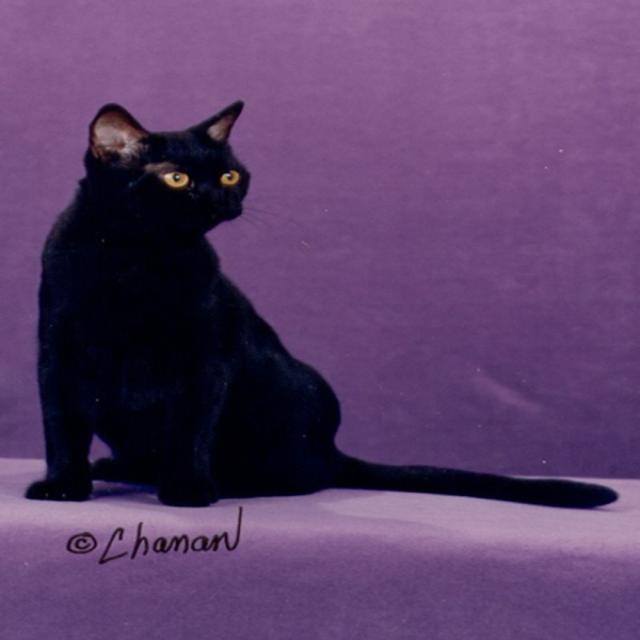Bombay: (87, 100, 249, 234)
